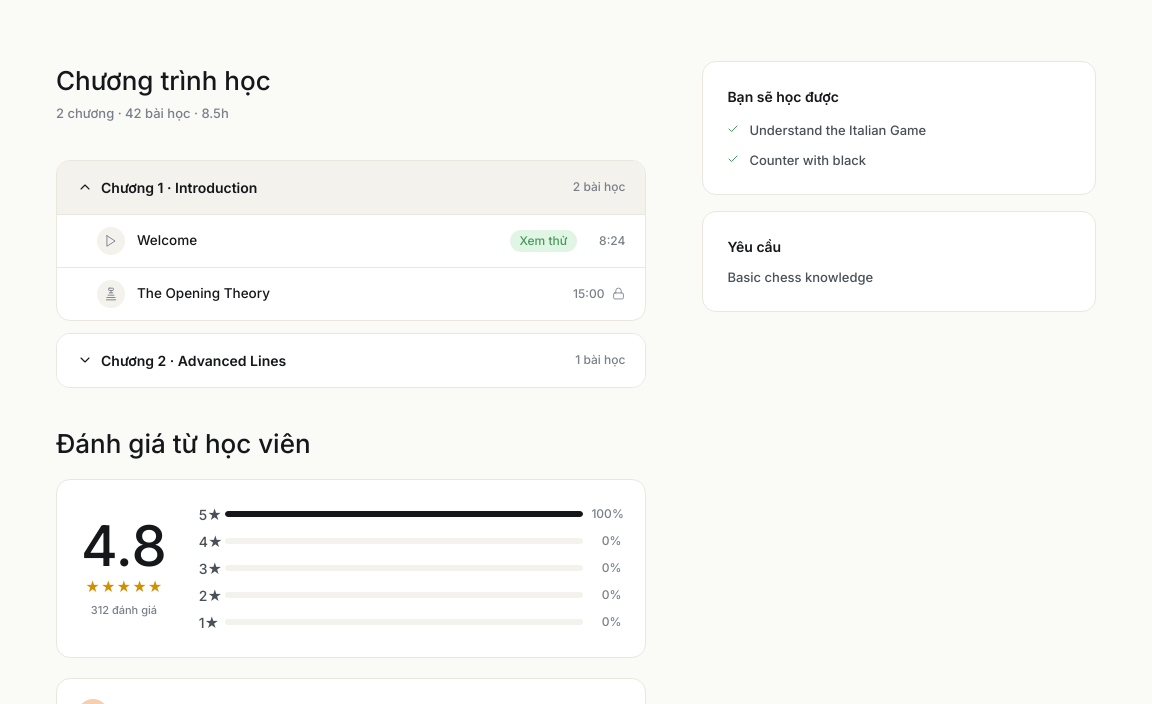
Test case: CourseDetailPage › curriculum accordion › clicking a collapsed chapter header expands it
(page scrolled)
Expected: the text "Chương 2 · Advanced Lines" is shown, [101,350,286,370]
Click the button with test id "chapter-header-ch2" at [194, 360], box [57,334,645,386]
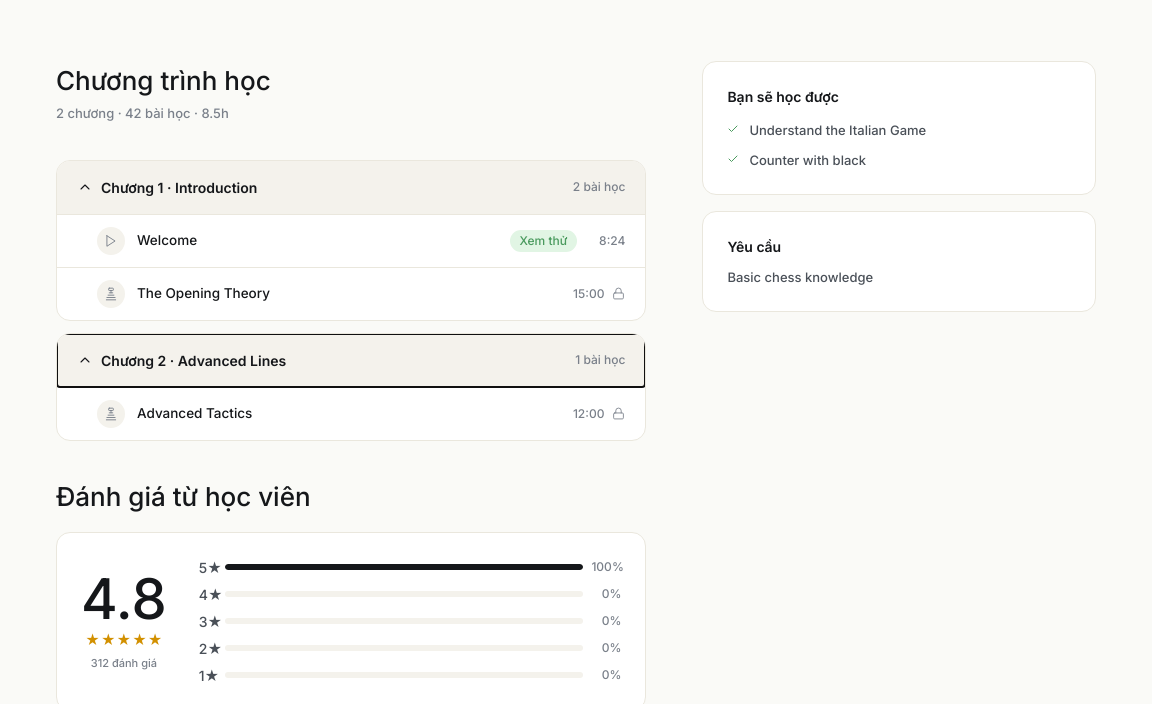
Expected: the text "Advanced Tactics" is shown, [137,405,252,421]
